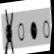correct: (28, 20, 39, 42)
no answer: (15, 20, 27, 44)
not correct: (0, 7, 19, 54)
